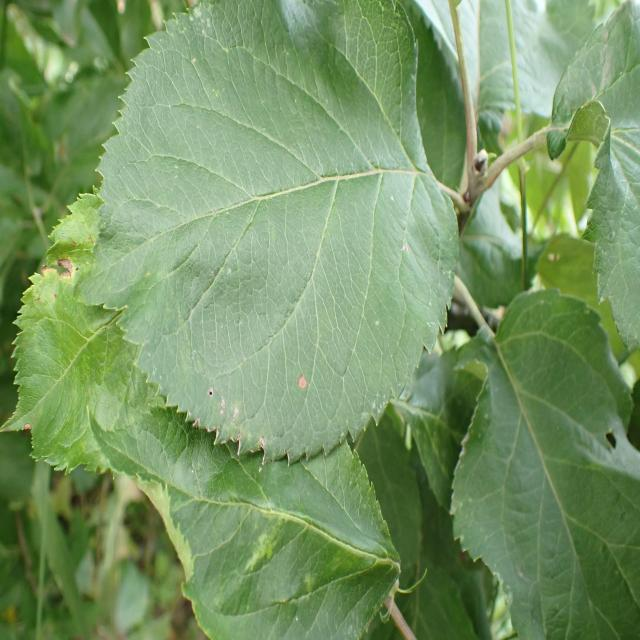Black Rot: (288, 358, 318, 416)
